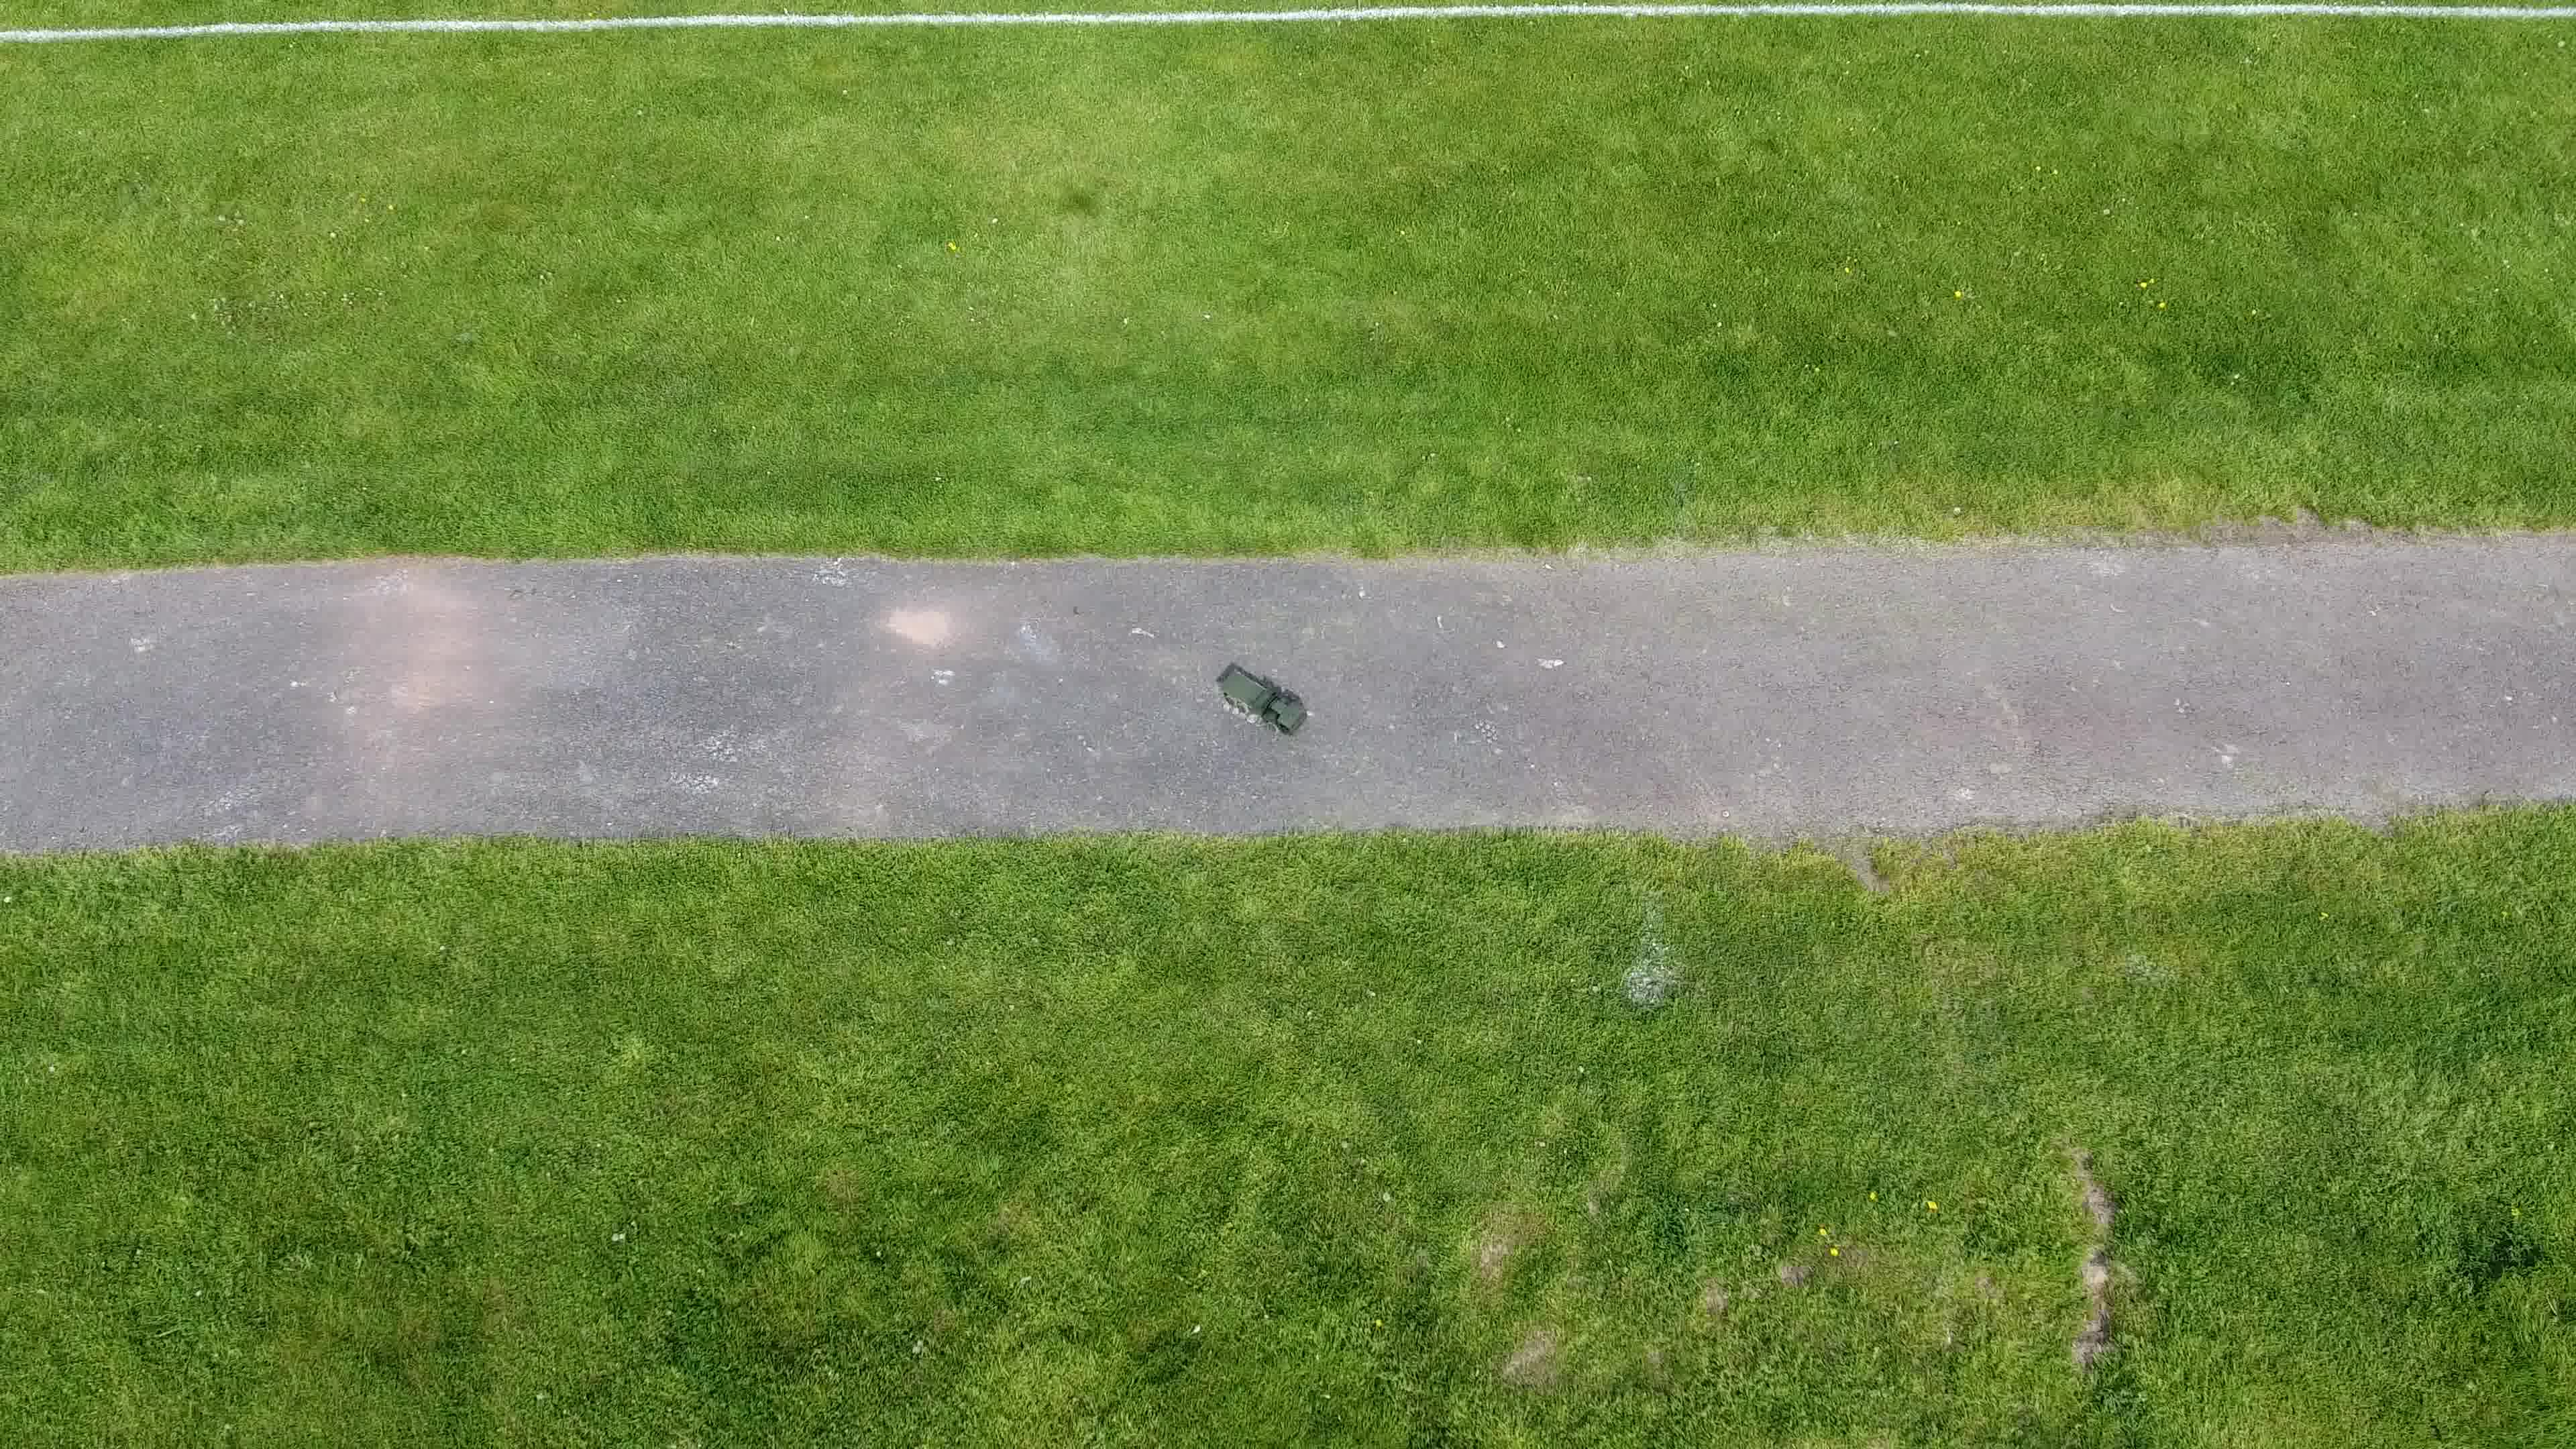transporter9: (1214, 663, 1311, 740)
